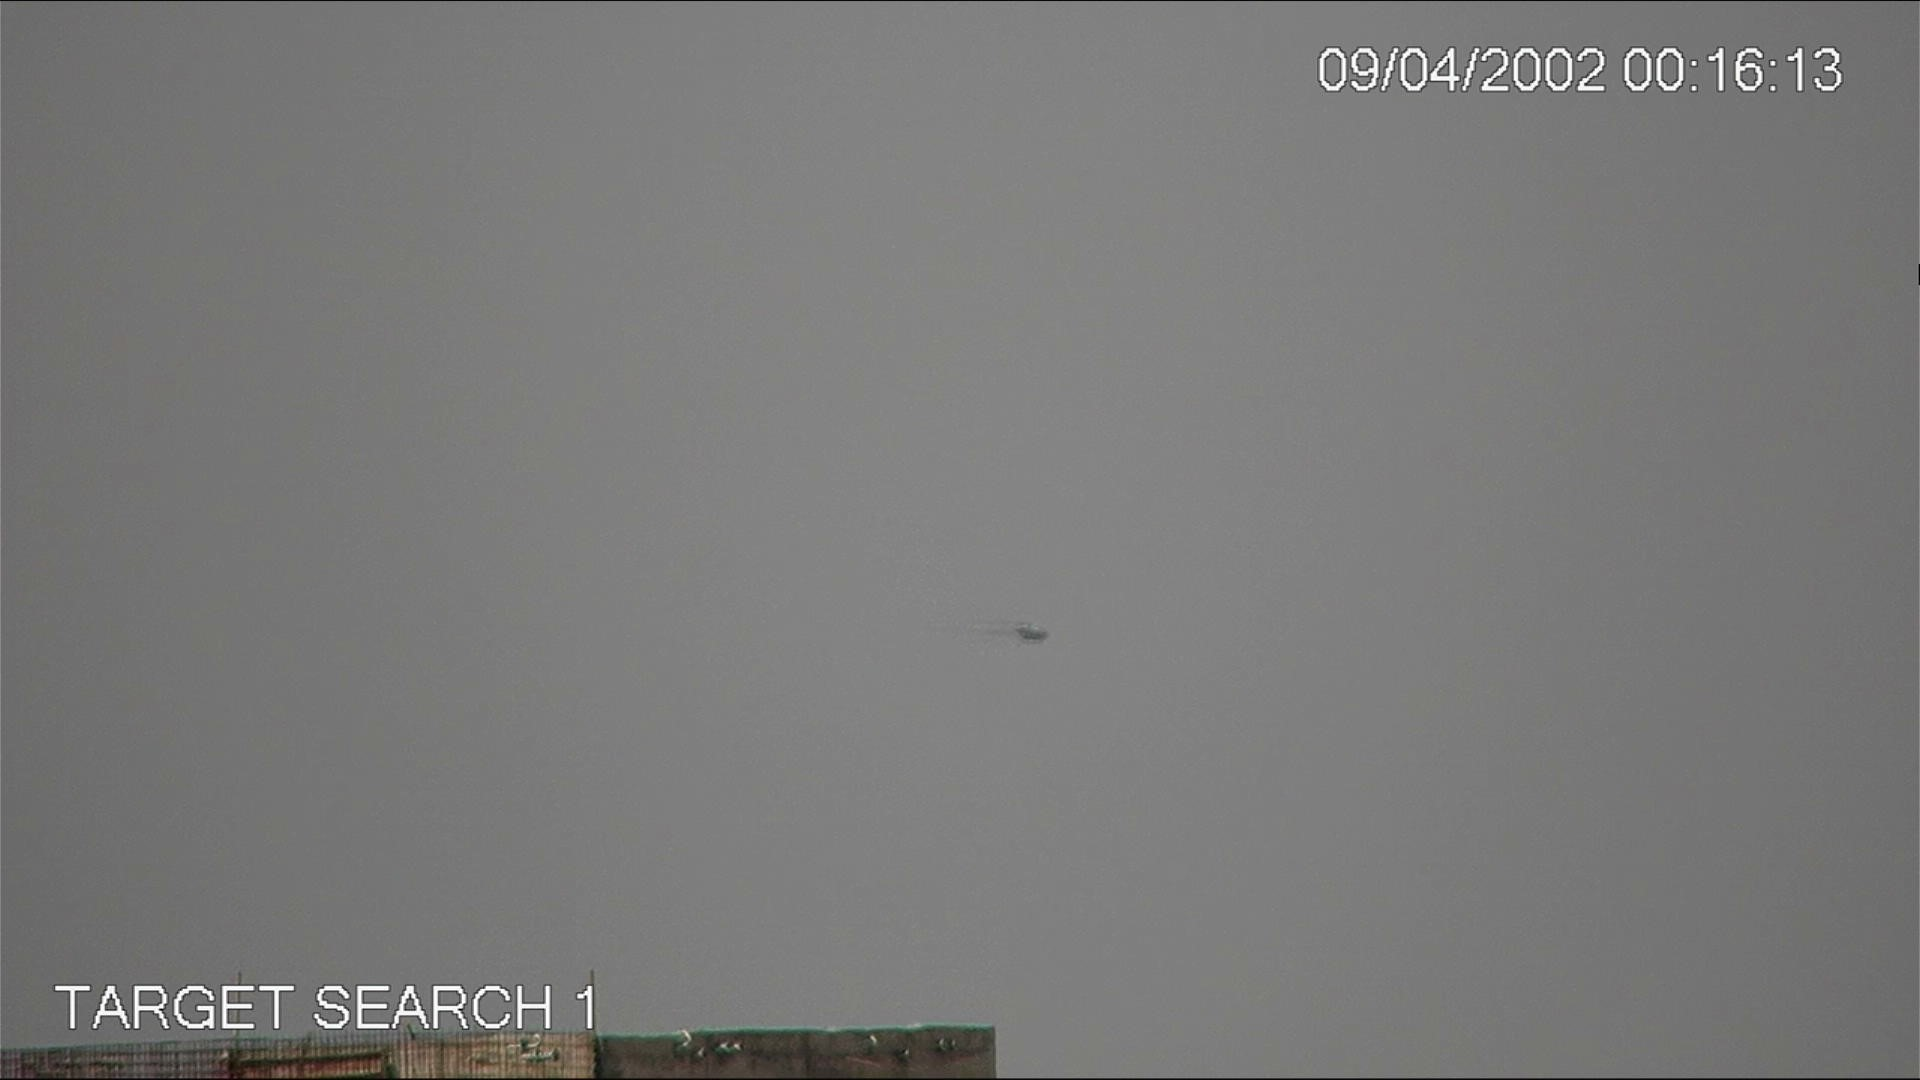SU_30: (1017, 621, 1048, 640)
